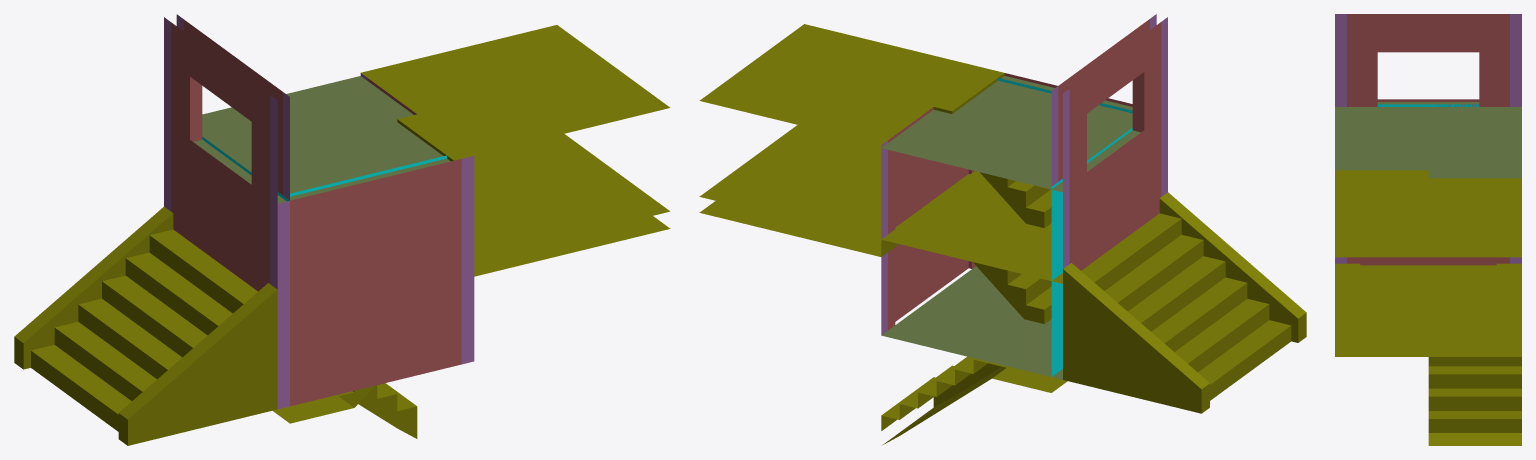
The model's file is building_parts.fbx.
3 views of the same model, side by side, from view 1: azimuth 30°, elevation 25°; view 2: azimuth 150°, elevation 25°; view 3: azimuth 270°, elevation 25° (orthographic). The views are drawn at different scales.
Parts seen in each view (by area): view 1: ladder_floor (×2), outerWall (×3), floors, outerPillar (×2), outerPillars; view 2: ladder_floor (×2), outerWall (×2), floors (×2), outerPillar, innerWall, outerPillars; view 3: ladder_floor (×2), floors (×3), outerWall (×2), outerPillar, innerWall.
Part boxes in pixels (bbox=[...]): ladder_floor (×2): bbox=[14, 25, 670, 445]; outerWall (×3): bbox=[171, 19, 461, 406]; floors: bbox=[193, 76, 450, 203]; outerPillar (×2): bbox=[164, 14, 473, 409]; outerPillars: bbox=[164, 121, 474, 360]; ladder_floor (×2): bbox=[699, 24, 1306, 444]; outerWall (×2): bbox=[888, 19, 1161, 330]; floors (×2): bbox=[881, 76, 1140, 379]; outerPillar: bbox=[881, 14, 1167, 334]; innerWall: bbox=[1051, 127, 1132, 376]; outerPillars: bbox=[1063, 113, 1167, 266]; ladder_floor (×2): bbox=[1335, 170, 1521, 445]; floors (×3): bbox=[1335, 102, 1521, 178]; outerWall (×2): bbox=[1347, 14, 1509, 265]; outerPillar: bbox=[1335, 14, 1521, 263]; innerWall: bbox=[1377, 104, 1473, 106].
Size of the model in its own units: 2.76 by 2.08 by 1.
